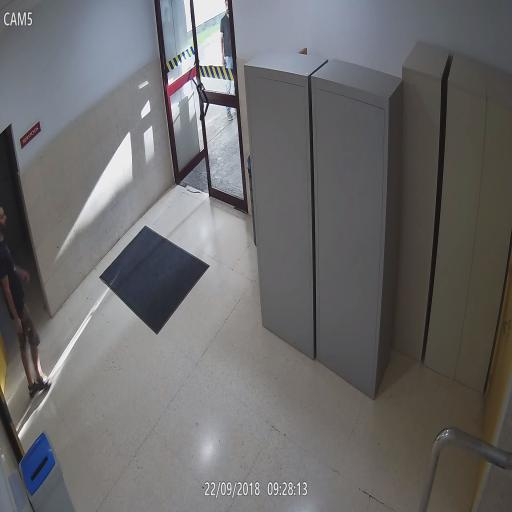Handgun: (12, 314, 28, 342)
